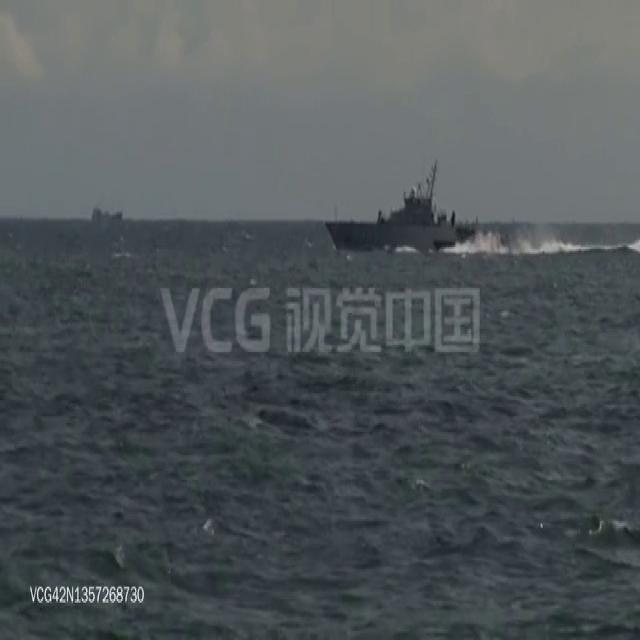navalvessels: (321, 166, 504, 256)
